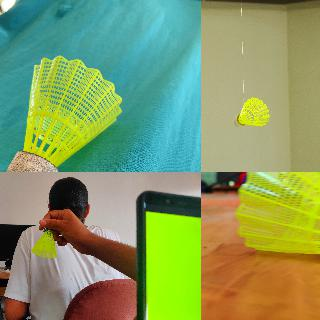shuttlecock: (5, 54, 123, 171), (236, 172, 319, 275), (233, 97, 269, 127), (31, 226, 57, 258)
